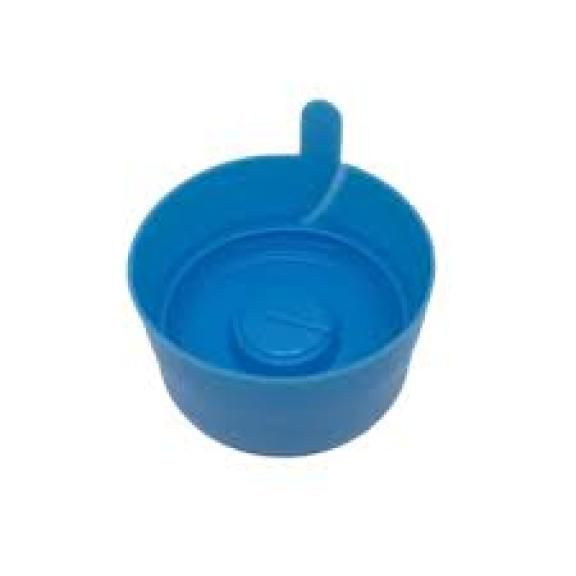Plastik: (125, 100, 435, 461)
